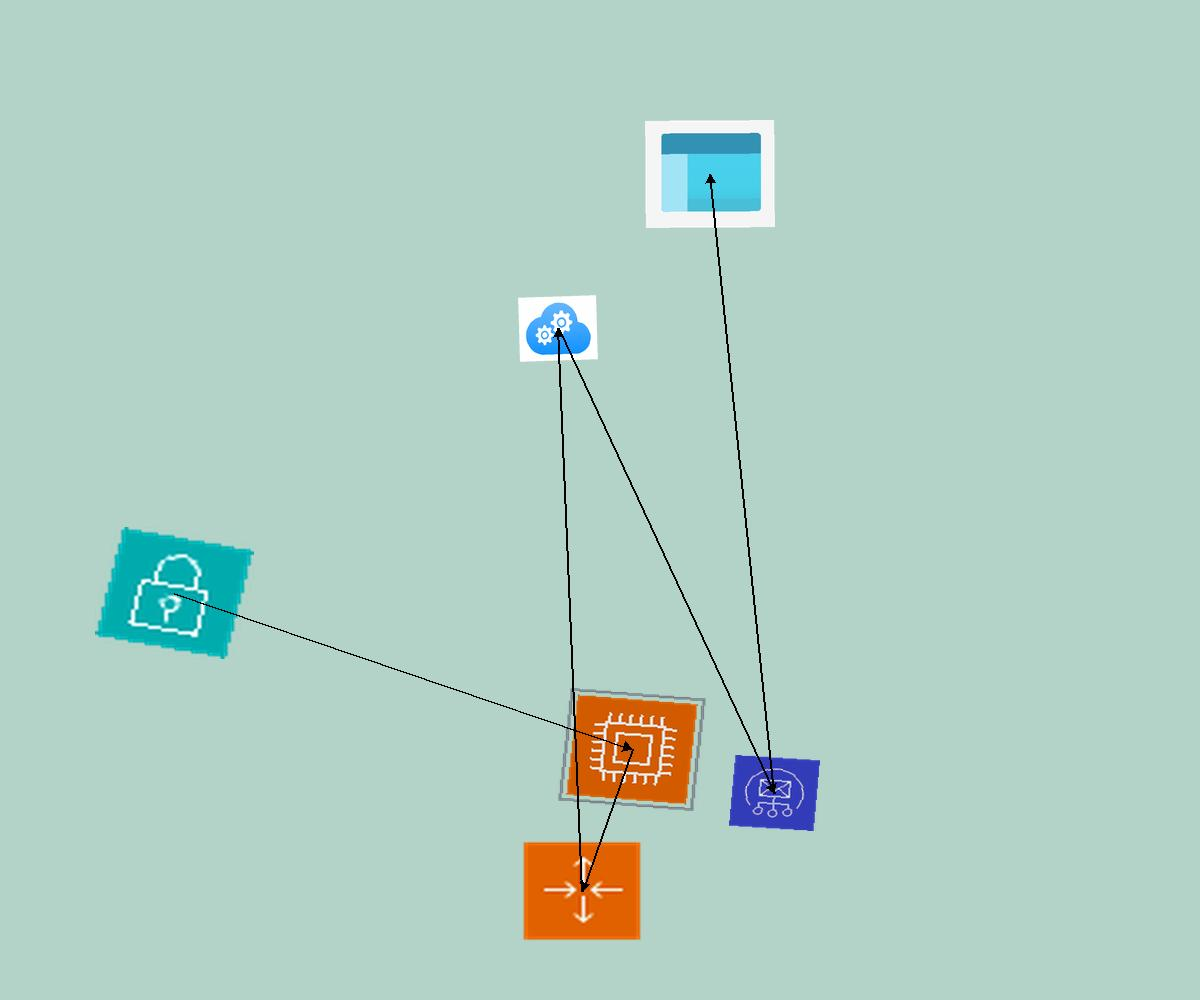AWS-Category_Compute: (557, 687, 707, 812)
AWS-Private-subnet: (95, 527, 254, 659)
AWS-Scaling-group: (521, 840, 643, 942)
AWS-Simple-Email-Service: (729, 755, 820, 831)
Azure_cloud_services: (518, 295, 598, 362)
Azure_management-portal: (645, 120, 775, 228)
